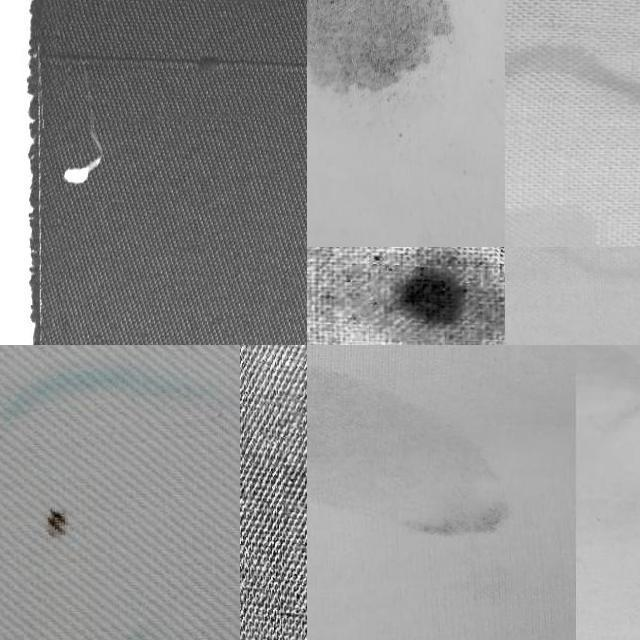Hole: (6, 442, 126, 628), (307, 0, 467, 121), (350, 247, 505, 345), (240, 345, 307, 408)
Thread_other: (36, 0, 307, 122)
